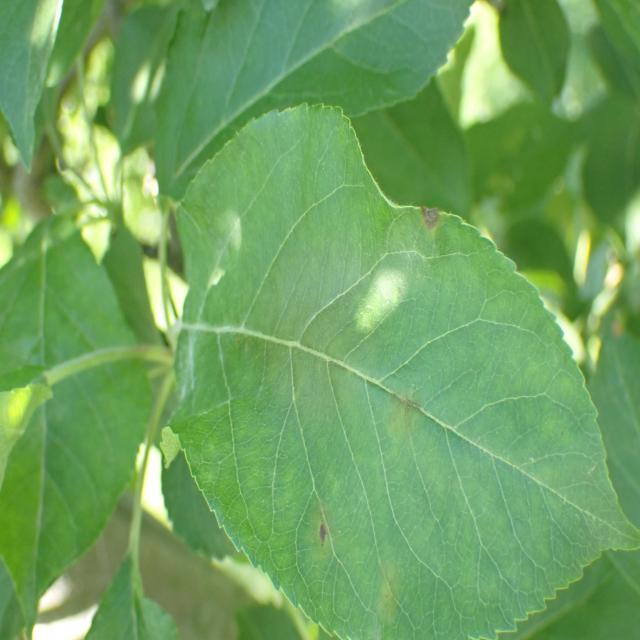scab: (262, 175, 462, 626)
